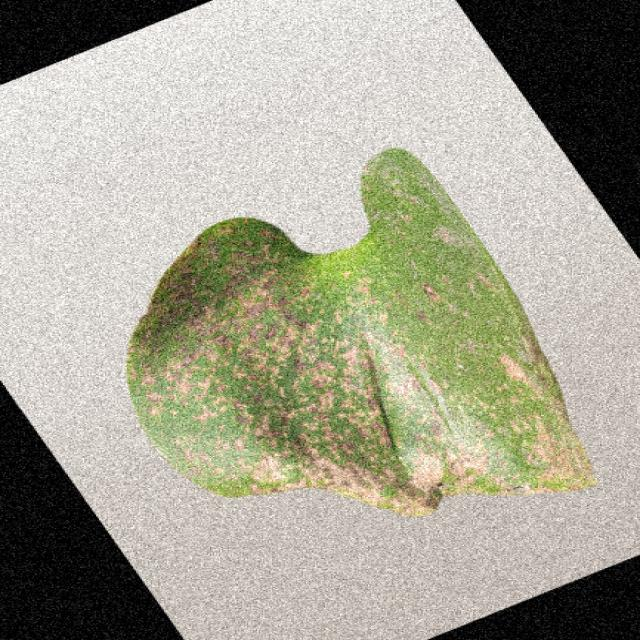daun berpenyakit bercak: (127, 149, 595, 516)
